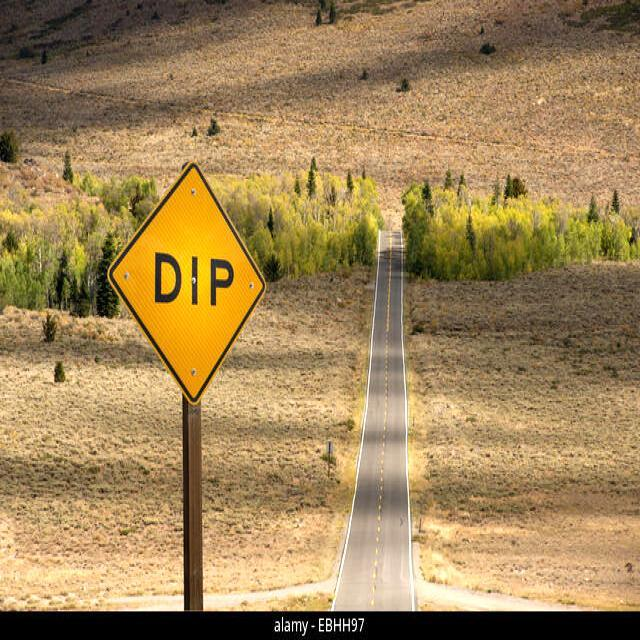Traffic sign: (104, 157, 268, 408)
